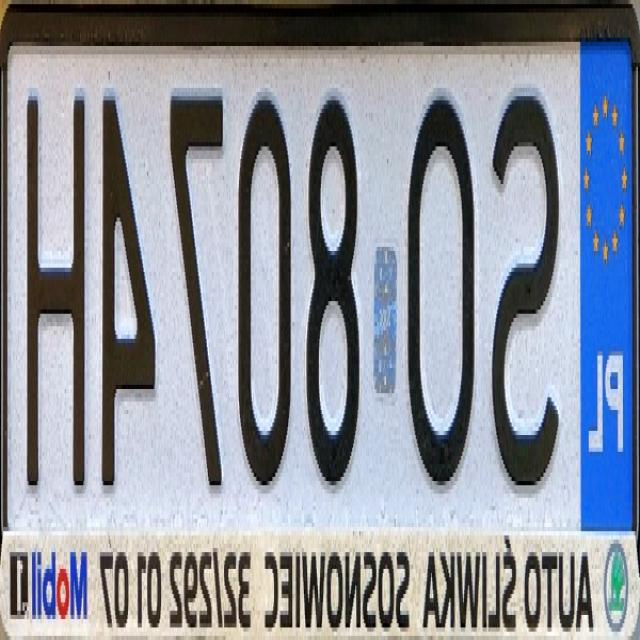pl_license_plate: (9, 42, 632, 527)
